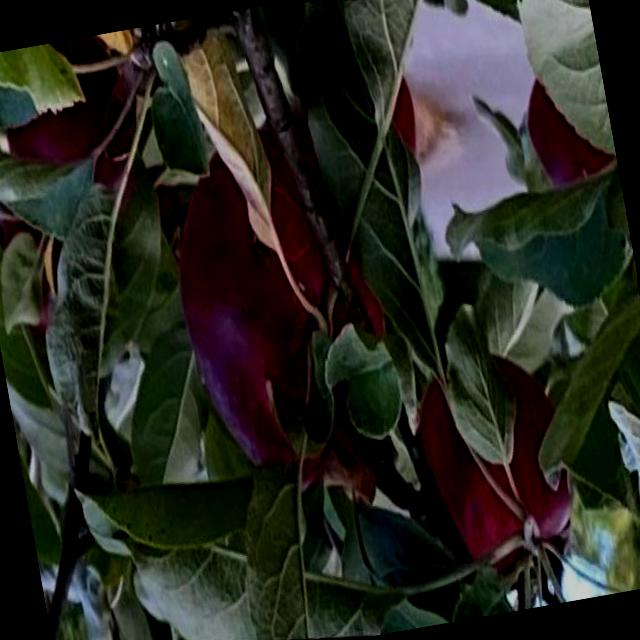Apple: (146, 102, 422, 516), (400, 335, 588, 594), (0, 28, 160, 221), (515, 64, 618, 196)
